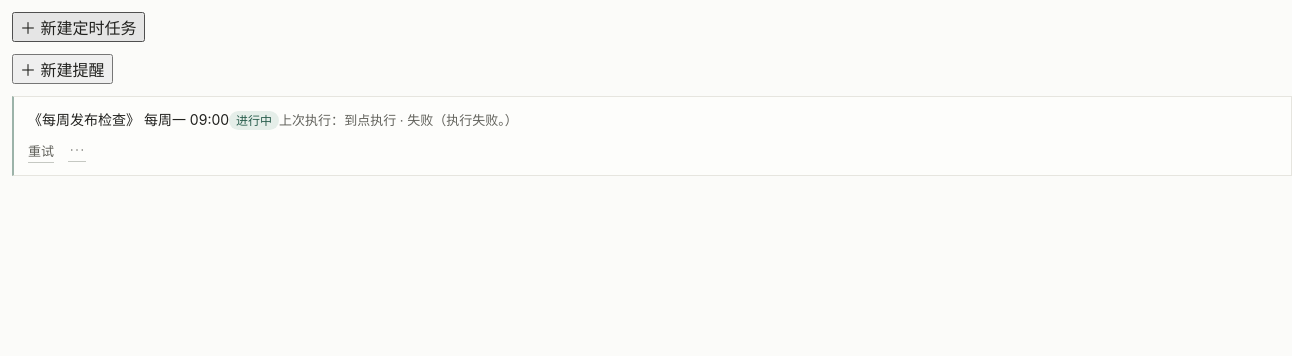
Test: A2 item 8：状态操作的失败逐类指名（不再塌成一句话） › 网络失败：如实说没提交成功、连不上本地服务（不是「请重试」就完事）
Click the button named "更多操作". click: (77, 151)
box: x1=68 y1=139 x2=86 y2=162
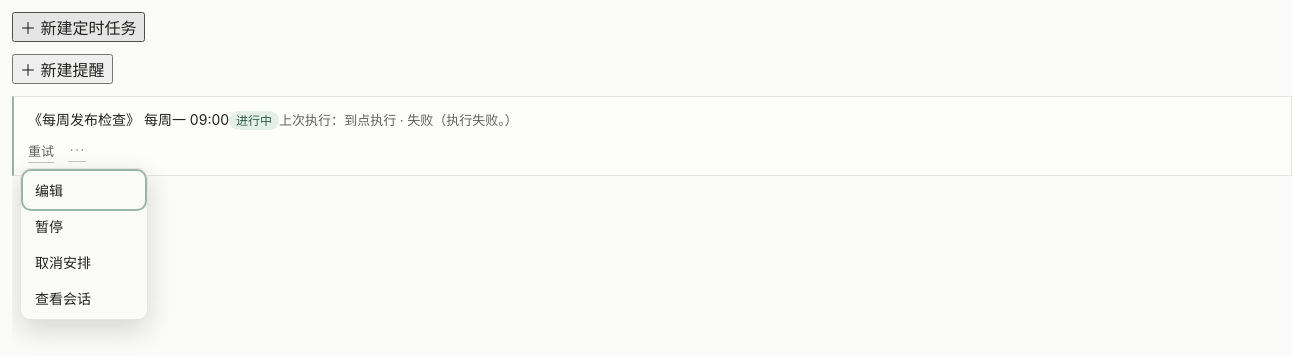
Click the menu item "暂停". click: (84, 226)
box: x1=25 y1=209 x2=143 y2=243
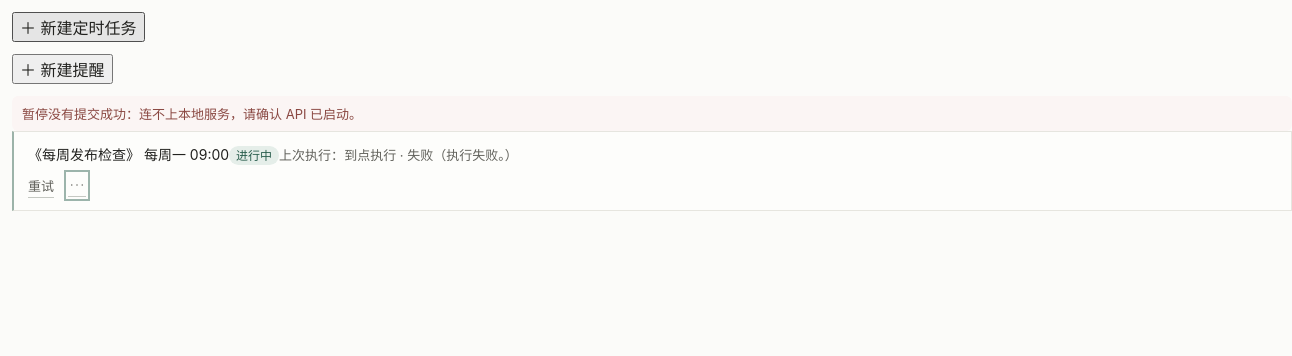
Check: the message "暂停没有提交成功：连不上本地服务，请确认 API 已启动。" is shown, box x1=12 y1=96 x2=1291 y2=131
